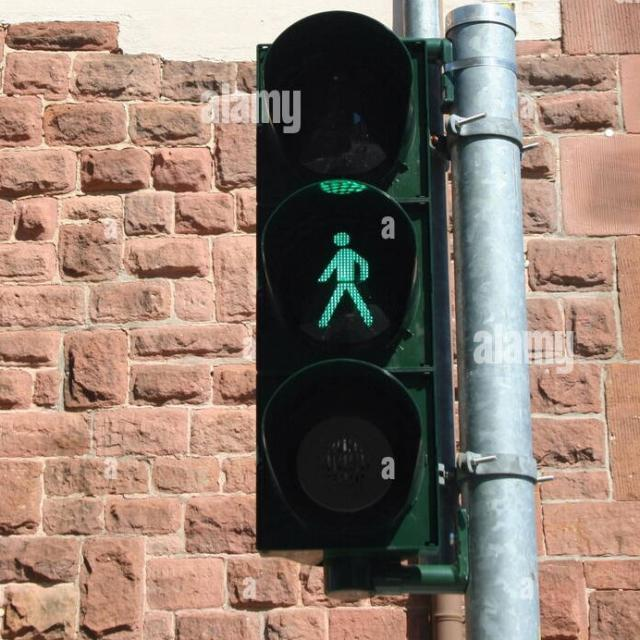geen-crossing: (294, 221, 380, 334)
